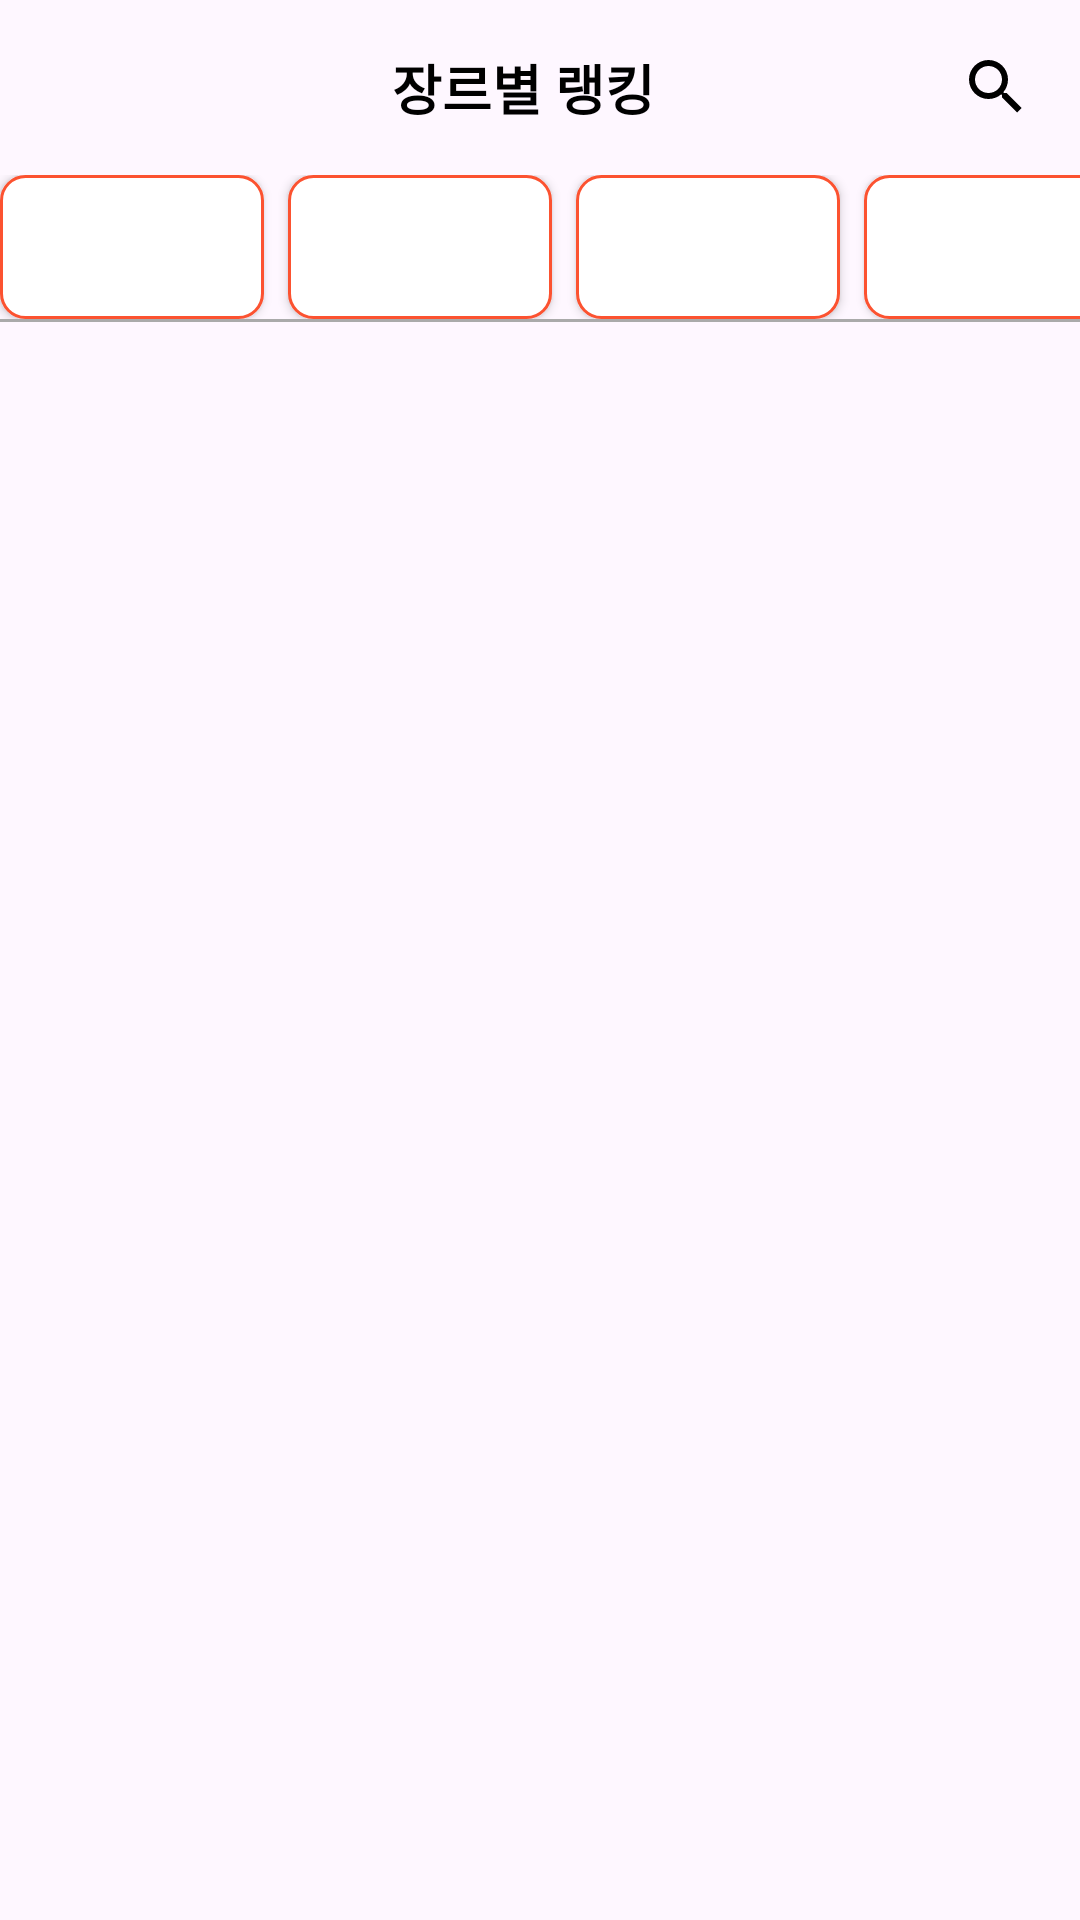

Locate icon controls on the screen. Image size 1080w x 1920h, boxes as (x1, y1, x2, y2).
search: (969, 60, 1022, 113)
